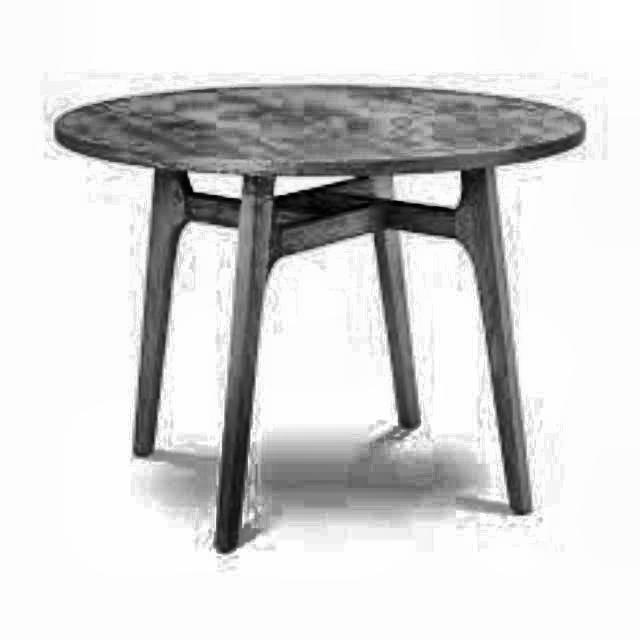mesa: (44, 59, 607, 544)
